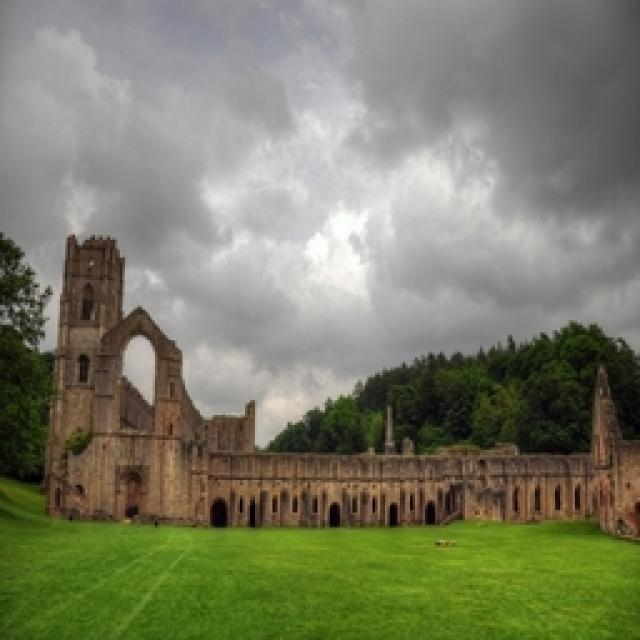Abbey: (103, 332, 185, 522), (216, 489, 455, 526)
